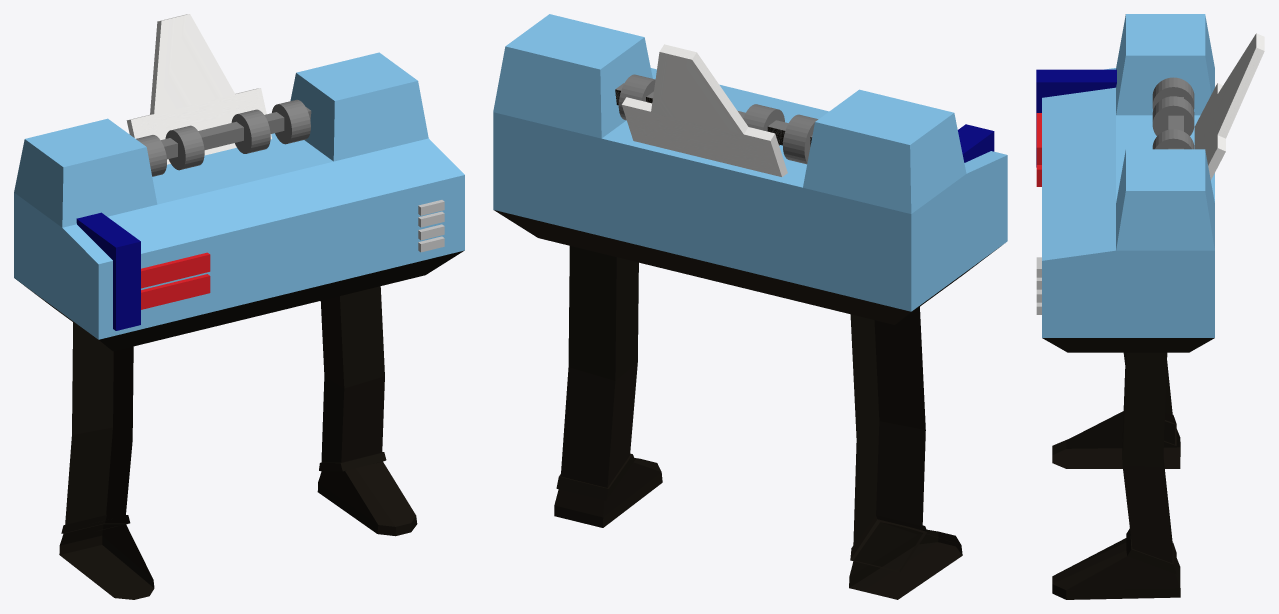
Rendered from CopierMan.fbx.
3 views of the same model, side by side, from view 1: azimuth 30°, elevation 25°; view 2: azimuth 150°, elevation 25°; view 3: azimuth 270°, elevation 25° (orthographic). The views are drawn at different scales.
Parts seen in each view (by area): view 1: Cube, Cube.001, Cube.005, Cylinder.003, Cube.010, Cube.004, Cube.009; view 2: Cube, Cube.001, Cube.005, Cylinder.003, Cube.010; view 3: Cube, Cube.001, Cube.005, Cylinder.003, Cube.010, Cube.004, Cube.009.
Boxes of the visible parts, x1,y1,x2,y2 form: Cube: (14, 52, 464, 351); Cube.001: (59, 286, 417, 599); Cube.005: (126, 14, 271, 164); Cylinder.003: (136, 99, 310, 176); Cube.010: (76, 212, 140, 330); Cube.004: (141, 252, 210, 309); Cube.009: (418, 200, 444, 252); Cube: (493, 14, 1007, 324); Cube.001: (554, 246, 962, 599); Cube.005: (621, 44, 787, 176); Cylinder.003: (618, 74, 818, 164); Cube.010: (958, 124, 994, 162); Cube: (1042, 14, 1214, 352); Cube.001: (1052, 352, 1180, 599); Cube.005: (1194, 33, 1264, 180); Cylinder.003: (1152, 77, 1194, 149); Cube.010: (1036, 69, 1116, 167); Cube.004: (1036, 113, 1041, 186); Cube.009: (1036, 257, 1041, 314).
Bounding box in the file's own units: 897 × 1111 × 474.
